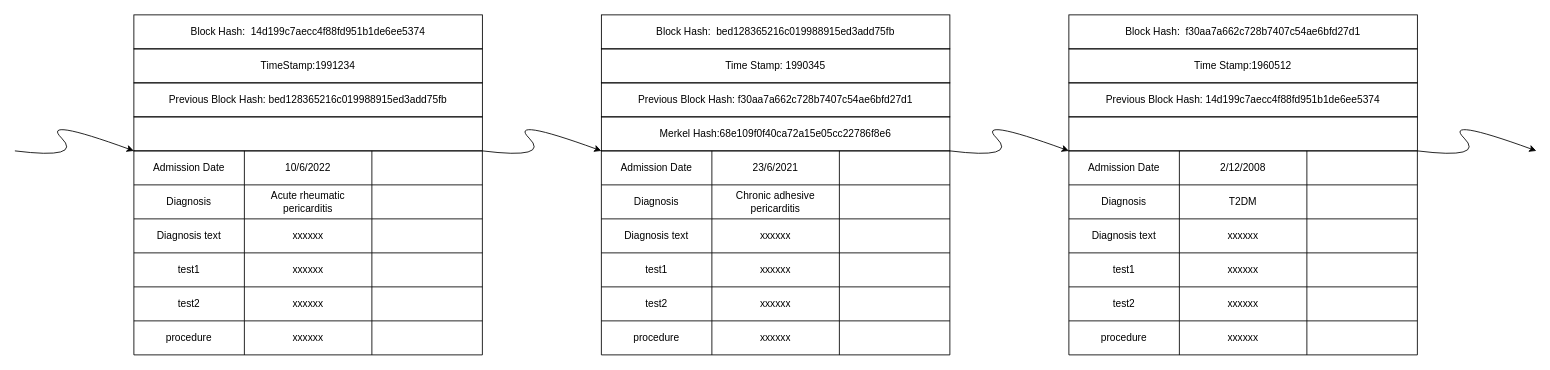
Some shapes in this 1550 by 370 pixel diagram are drawn without their labels. Each missing label, with the box of its shape:
Merkel Hash:69936ded24418931fdff5a4248985c8e: (133, 116, 482, 151)
Merkel Hash:76058d2ec82d24219350f8b7a6a22ee4: (1068, 116, 1417, 151)
